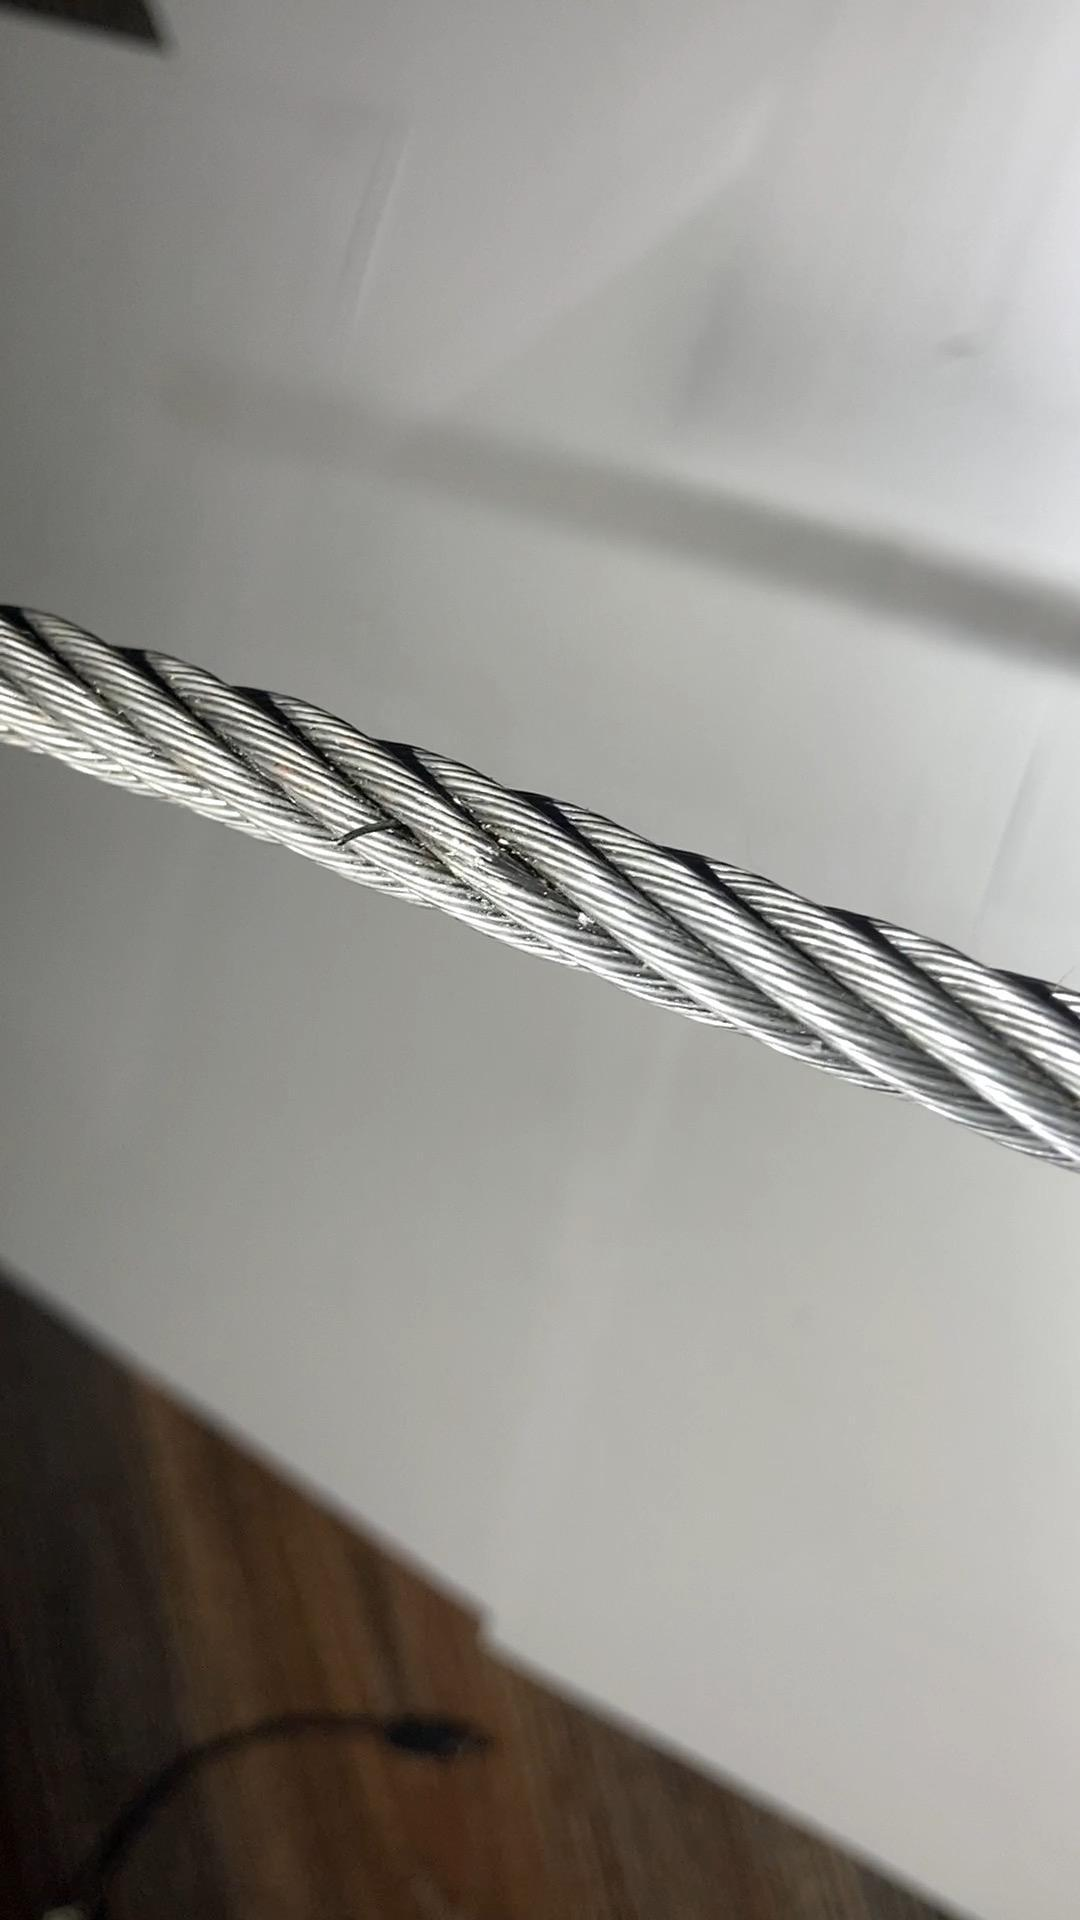break: (307, 785, 426, 865)
